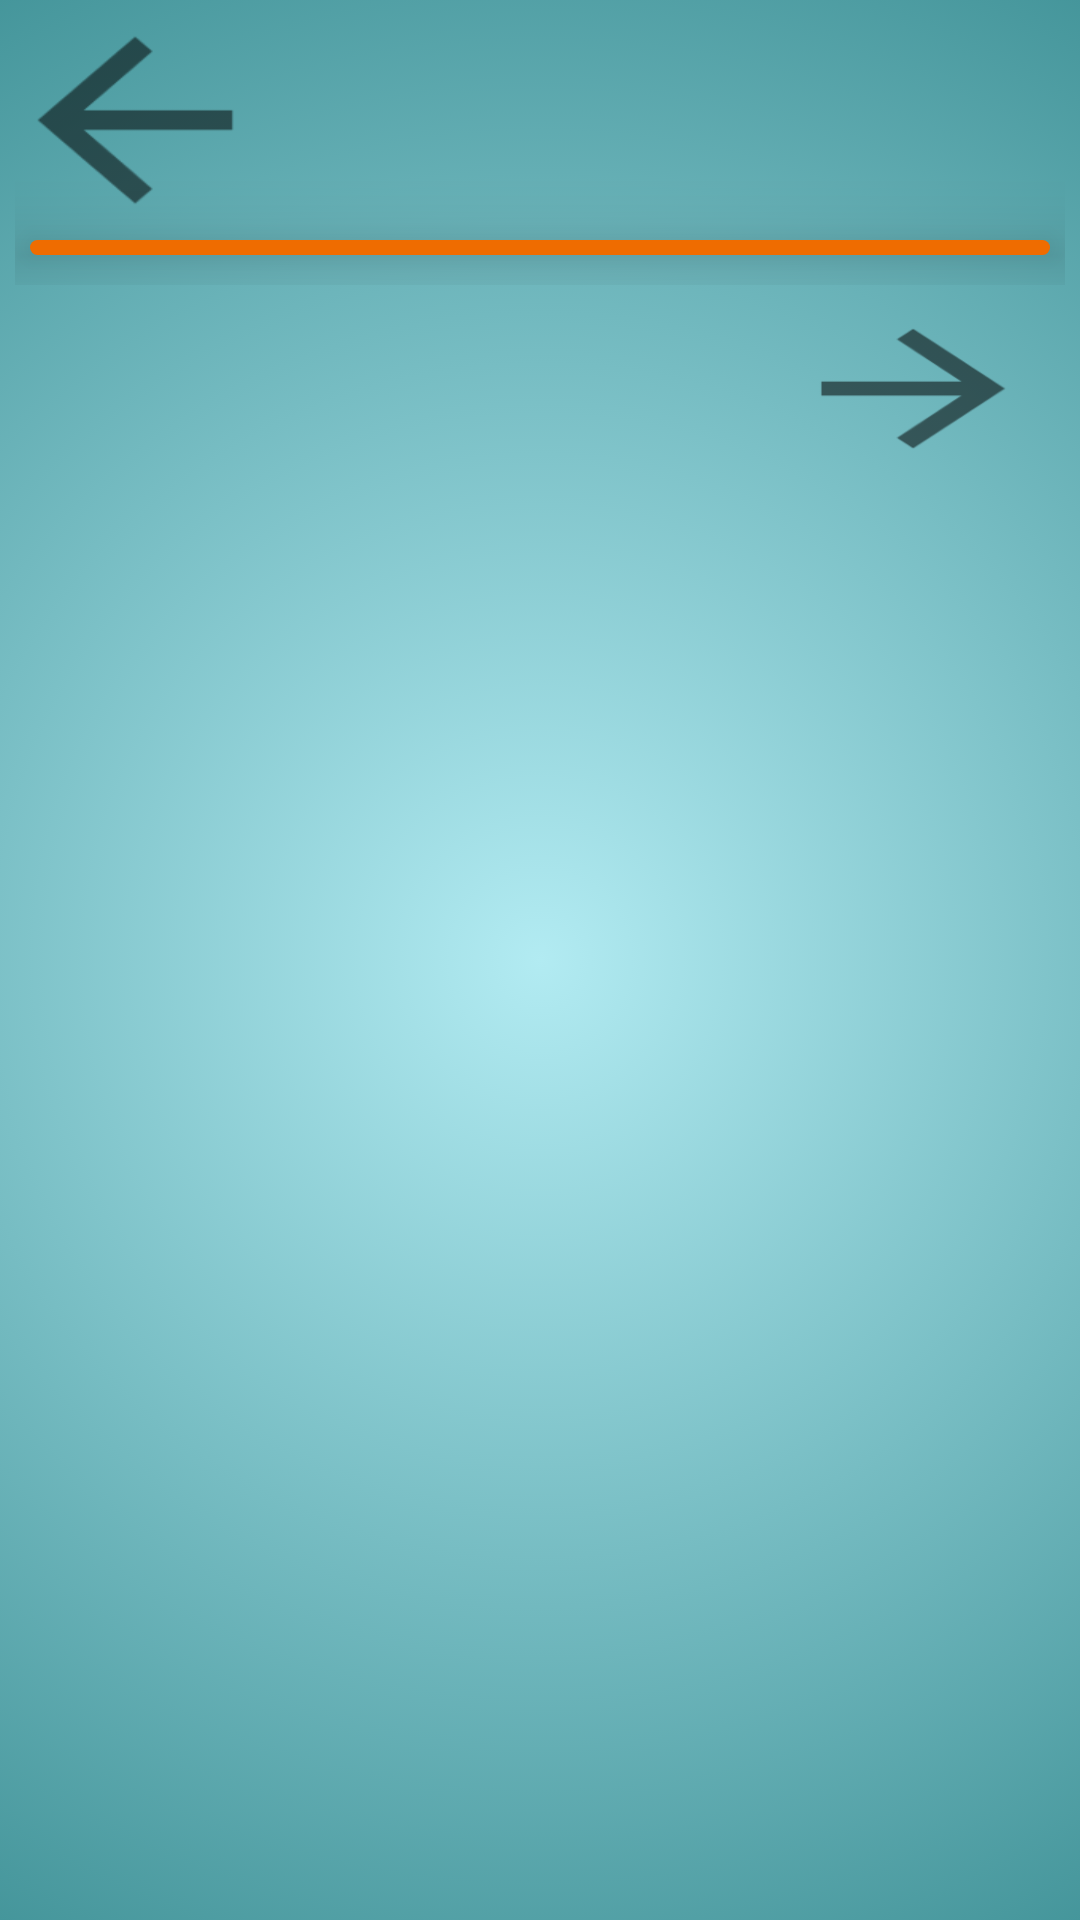

Locate icon controls on the screen. Image size 1080*1920, boxes as (x1, y1, x2, y2).
arrow back: (38, 37, 233, 203)
arrow forward: (821, 329, 1005, 448)
